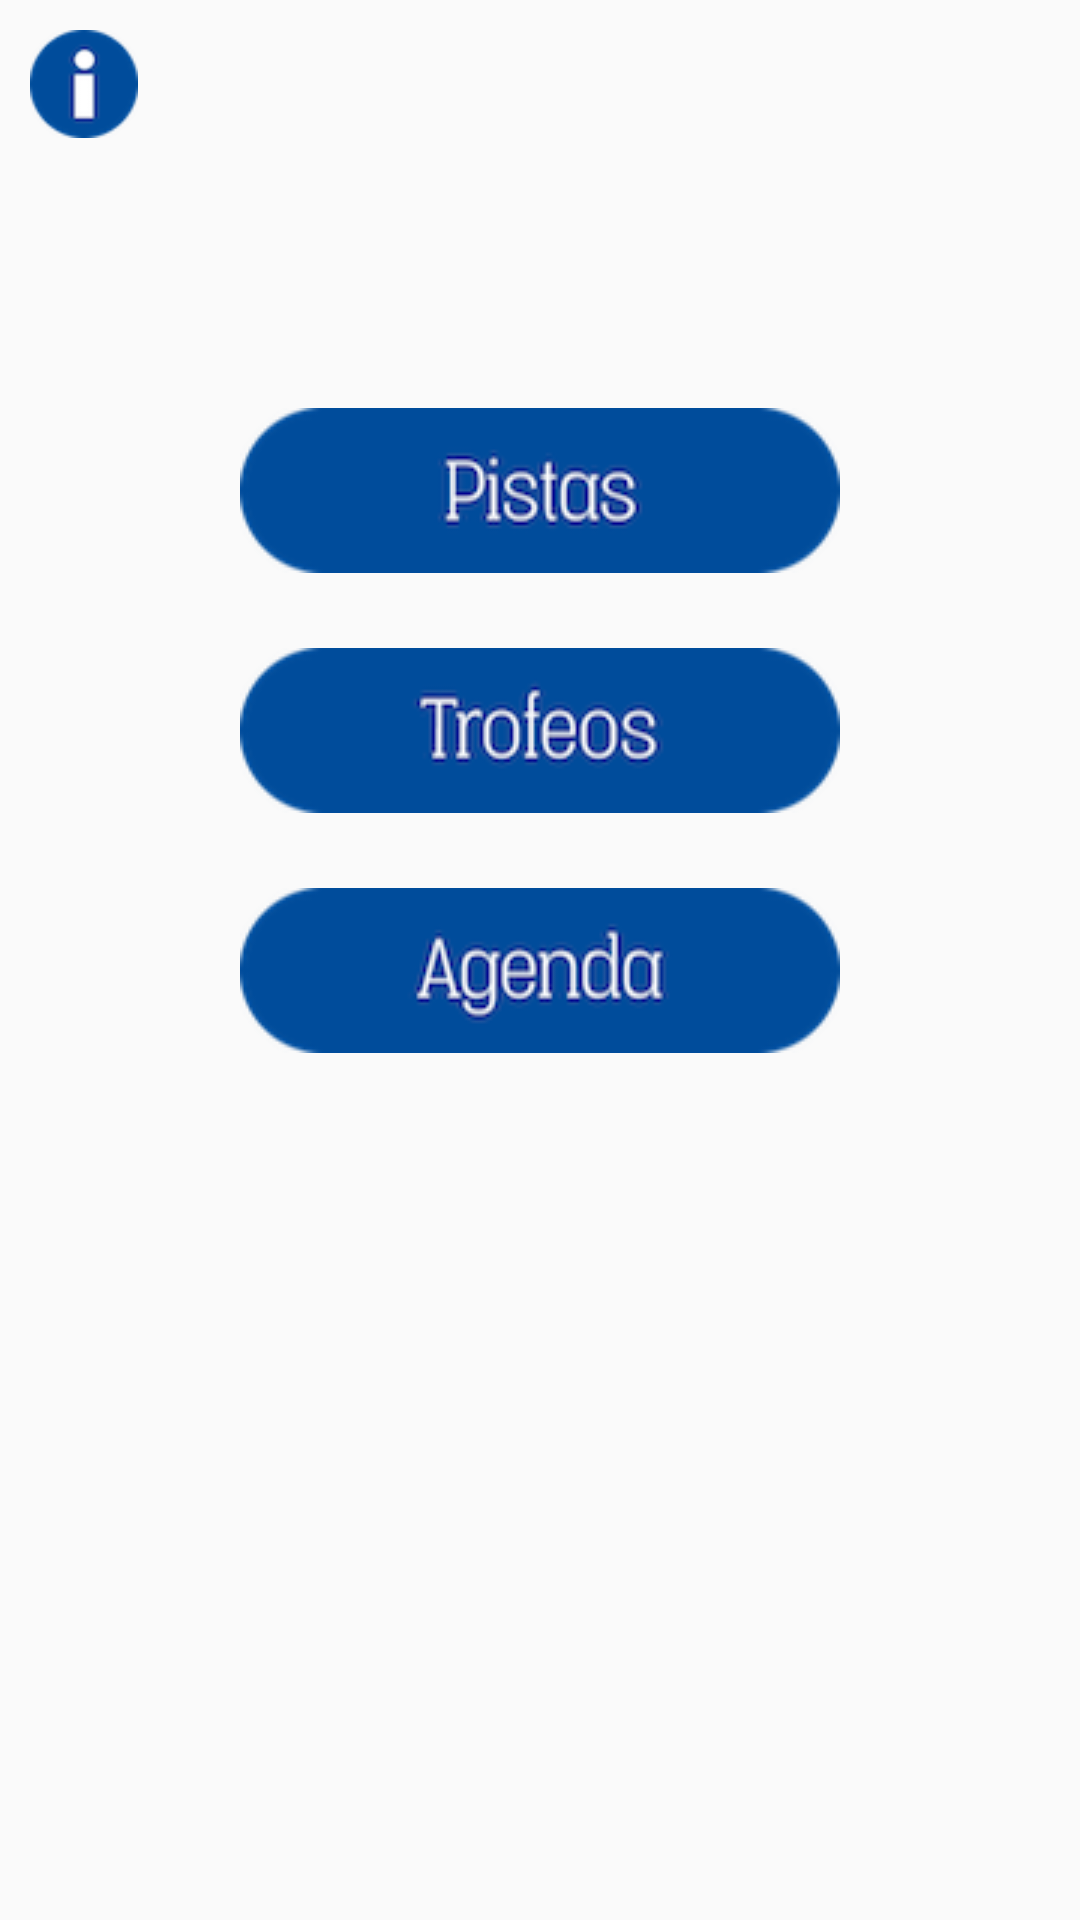

Point at icon controls on the screen. Image size 1080px×1920px, points as [x,y].
info: [84,84]
